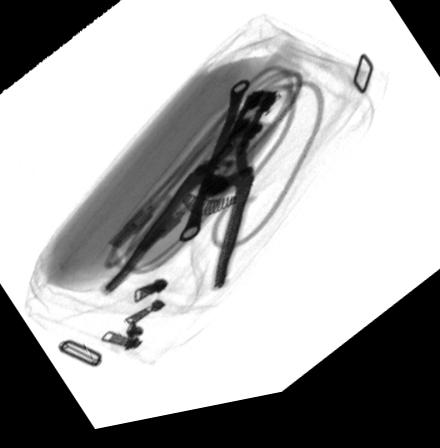Pliers: (101, 98, 276, 300)
Wrench: (178, 87, 252, 249)
